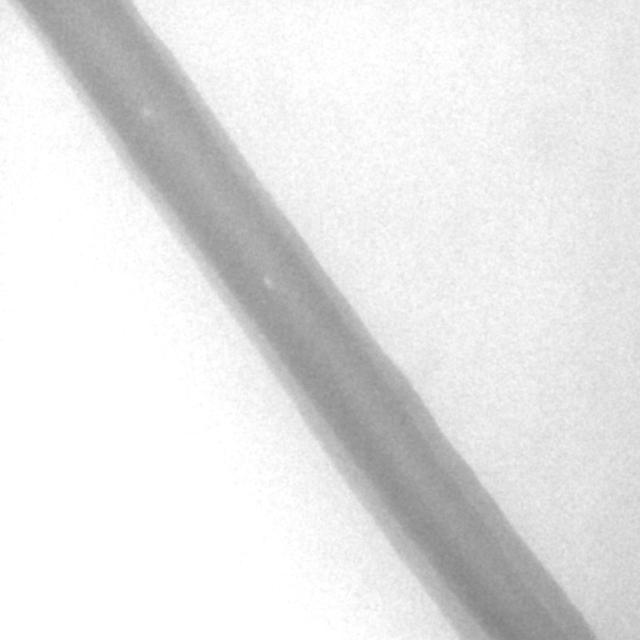air hole: (261, 275, 274, 292)
